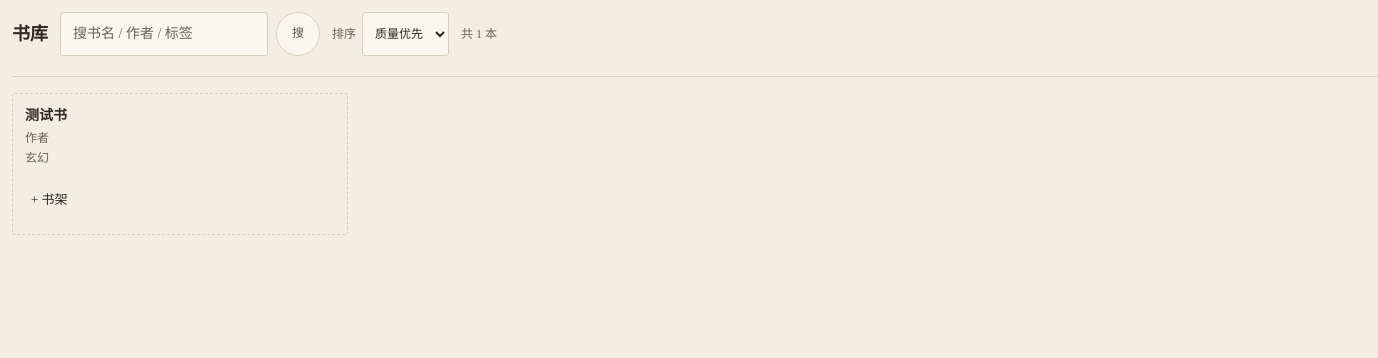
LibraryTab 下载进度轮询：数据库配额暂停与自恢复 › 再探仍是配额 ⇒ 继续等下一个 Retry-After，期间不按 30 秒打
Click the button with aria-label "查看测试书详情".
click(46, 116)  # box [13, 94, 346, 178]
Wait 240000 ms
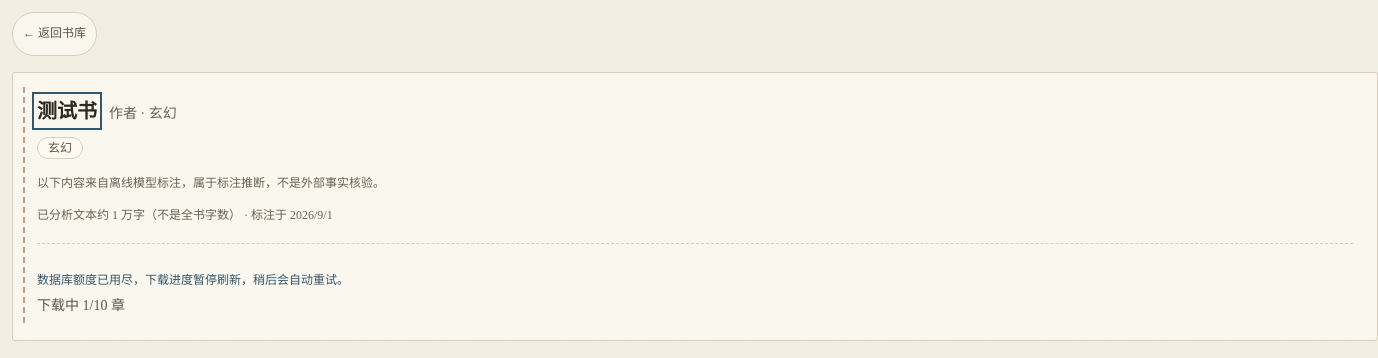
Check: the text "数据库额度已用尽，下载进度暂停刷新，稍后会自动重试。" is shown, box [37, 273, 349, 287]
